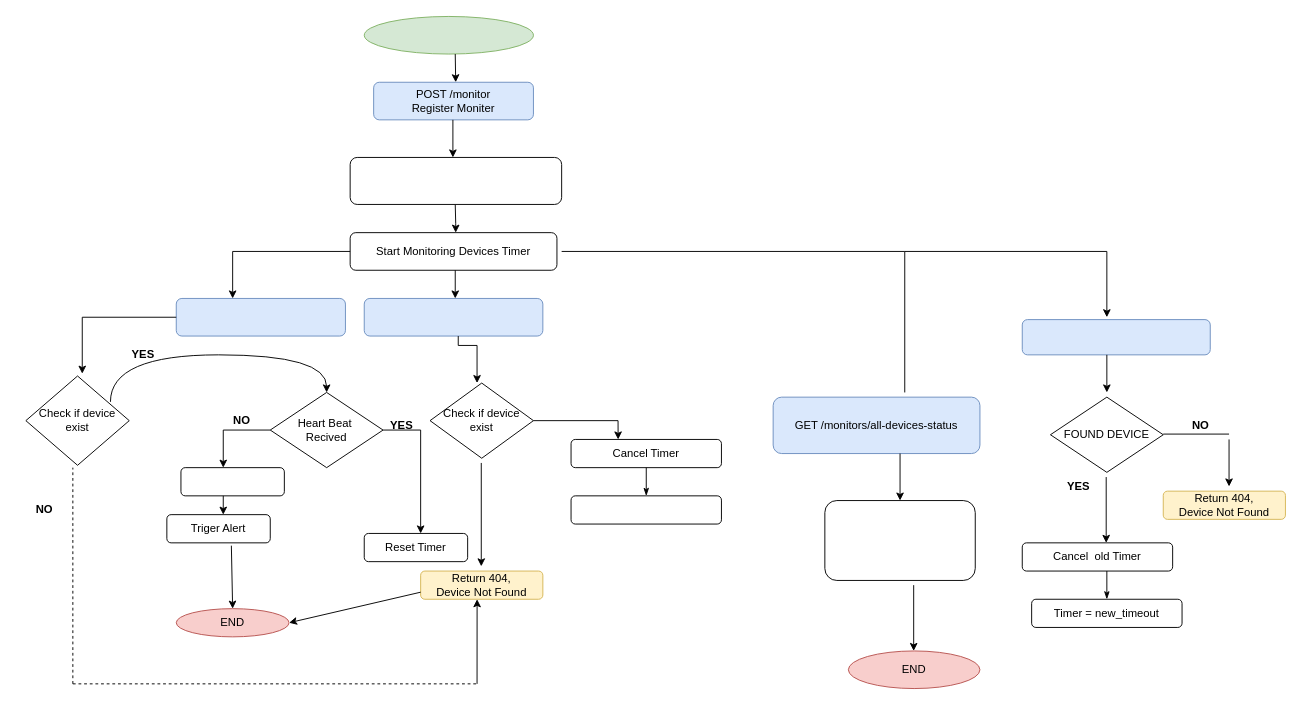
Image size: 1302x708. Some labels were removed from this diagram. The centre of each missing label's shape, as x and y in pixels:
Check all devices status and Return ALIVE DOWN PAUSE: pixel 899 540
POST /monitors/device-id/heartbeat: pixel 260 317
POST /monitors/device-id/pause: pixel 453 317
PUT /monitors/device-id/timeout: pixel 1115 337
Set Status= Pause: pixel 645 509
Start: pixel 448 35
Store Monitor in Memory: pixel 455 180
Timer Expire: pixel 232 481
